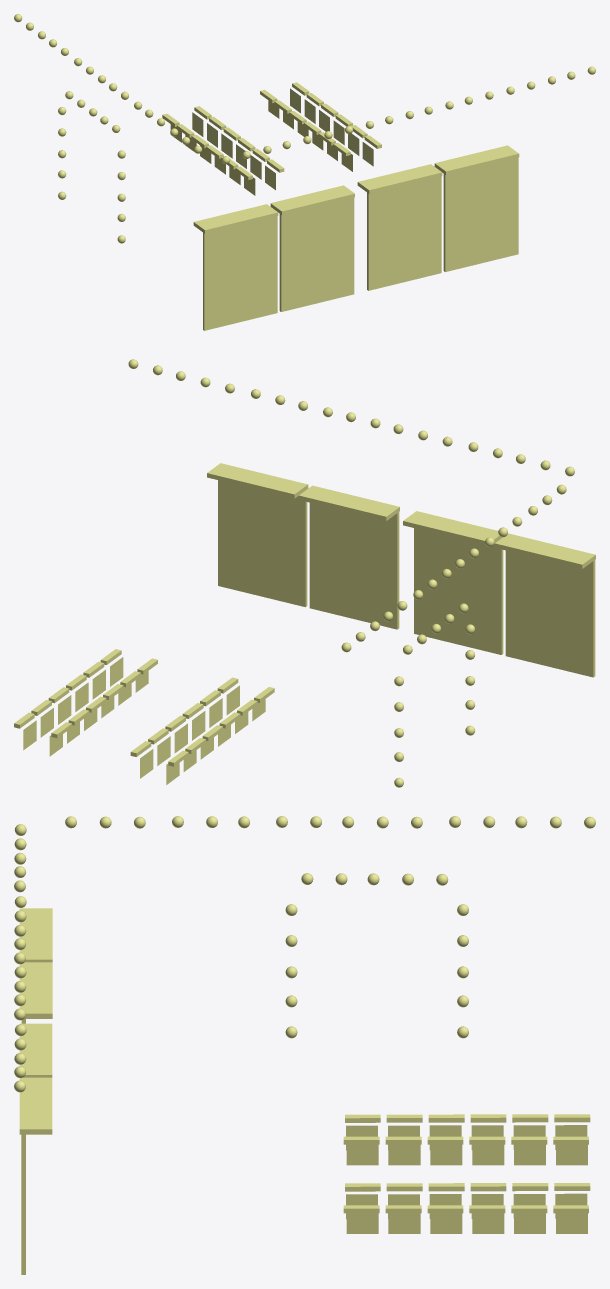
File: luz.fbx
3 views of the same model, one above another, from view 1: azimuth 30°, elevation 25°; view 2: azimuth 150°, elevation 25°; view 3: azimuth 270°, elevation 25° (orthographic). The views are drawn at different scales.
Parts seen in each view (by area): view 1: Cube.017, Cube.182, Cube.015, Cube.181; view 2: Cube.017, Cube.182, Cube.015, Cube.181; view 3: Cube.015, Cube.181, Cube.112, Cube.110, Cube.114, Cube.116, Cube.017, Cube.118, Cube.120, Cube.063, Cube.066, Cube.069 (+3 smaller).
Boxes of the visible parts, <box> form: Cube.017: <box>367,157,518,290</box>; Cube.182: <box>203,197,354,330</box>; Cube.015: <box>357,145,519,193</box>; Cube.181: <box>193,185,354,233</box>; Cube.017: <box>218,480,399,629</box>; Cube.182: <box>414,528,595,677</box>; Cube.015: <box>207,463,399,521</box>; Cube.181: <box>403,511,595,568</box>; Cube.015: <box>19,1023,52,1134</box>; Cube.181: <box>19,908,52,1018</box>; Cube.112: <box>388,1144,420,1165</box>; Cube.110: <box>346,1144,378,1165</box>; Cube.114: <box>430,1144,462,1165</box>; Cube.116: <box>472,1144,504,1165</box>; Cube.017: <box>21,1134,25,1274</box>; Cube.118: <box>514,1144,545,1165</box>; Cube.120: <box>556,1144,587,1165</box>; Cube.063: <box>346,1213,378,1233</box>; Cube.066: <box>388,1213,420,1233</box>; Cube.069: <box>430,1213,462,1233</box>.
Bounding box in the file's own units: 10820 × 4502 × 9689.
